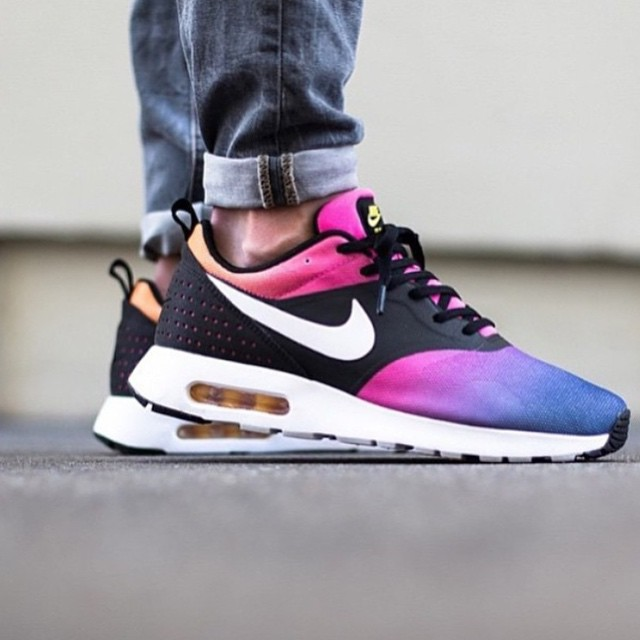sneaker: (107, 173, 638, 478), (73, 191, 211, 473)
